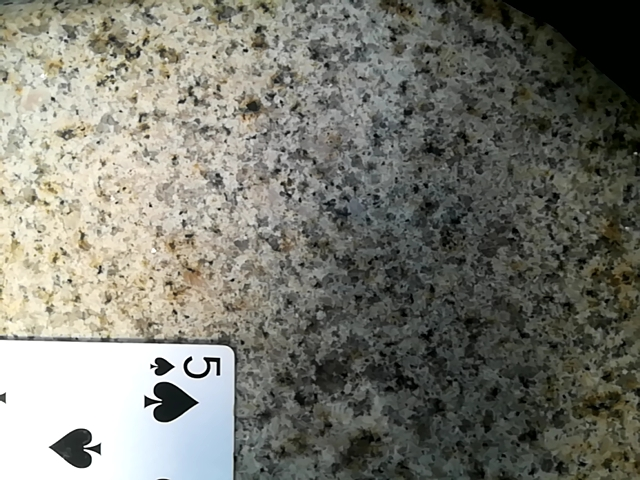ht 5: (0, 336, 231, 479)
